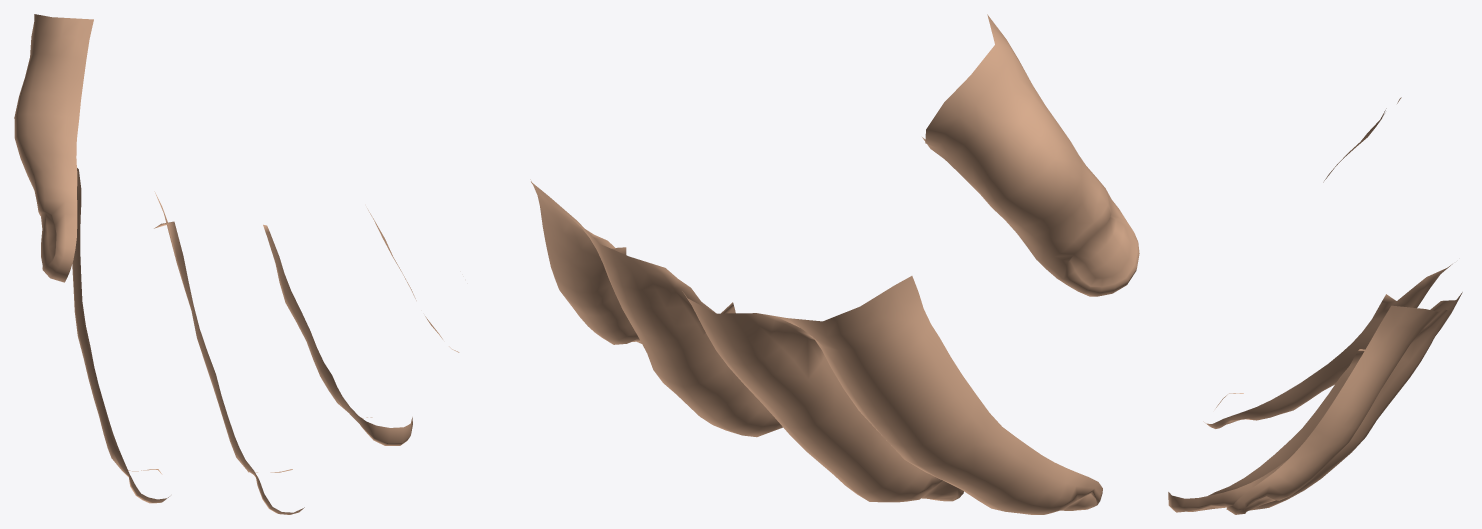
The model's file is dorsal-surfaces-of-digits-of-hand-r.glb.
3 renders of one model, left to right at view 1: azimuth 30°, elevation 25°; view 2: azimuth 150°, elevation 25°; view 3: azimuth 270°, elevation 25°, orthographic. The views are drawn at different scales.
Parts seen in each view (by area): view 1: Dorsal surfaces of digits of hand.r; view 2: Dorsal surfaces of digits of hand.r; view 3: Dorsal surfaces of digits of hand.r.
Part boxes in pixels (left/top/right/bottom): Dorsal surfaces of digits of hand.r: left=14, top=14, right=459, bottom=514; Dorsal surfaces of digits of hand.r: left=530, top=14, right=1139, bottom=514; Dorsal surfaces of digits of hand.r: left=1168, top=97, right=1462, bottom=514.
Bounding box in the file's own units: 0.1164 × 0.122 × 0.076.
